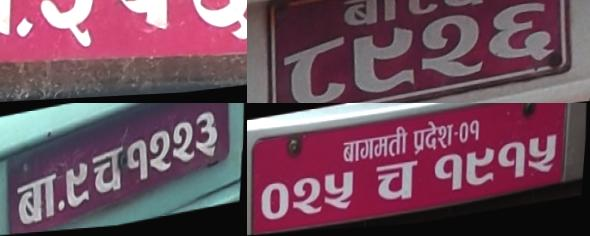0: (257, 176, 295, 227), (457, 122, 471, 148)
1: (430, 150, 468, 200), (495, 142, 531, 189), (123, 135, 152, 192), (467, 119, 483, 148)
2: (413, 10, 497, 89), (290, 173, 326, 219), (147, 126, 177, 180), (171, 118, 199, 173)
3: (193, 108, 224, 168)
5: (27, 0, 112, 58), (525, 135, 563, 185), (322, 169, 359, 219)
6: (483, 0, 565, 73), (178, 0, 247, 54)
8: (273, 32, 358, 103), (402, 0, 444, 19)
9: (345, 23, 427, 100), (462, 147, 498, 194), (64, 161, 94, 213)
ba: (16, 169, 66, 234), (336, 0, 406, 32), (341, 138, 362, 167)
cha: (100, 0, 191, 52), (371, 156, 423, 210), (90, 144, 129, 204), (438, 0, 495, 13)
